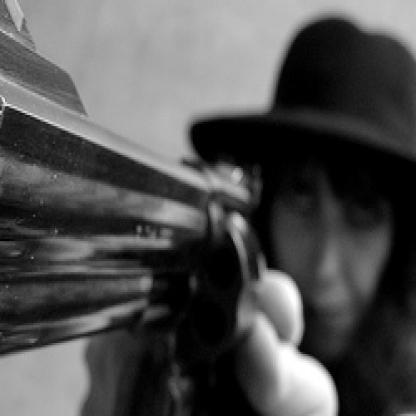gun: (0, 0, 273, 414)
